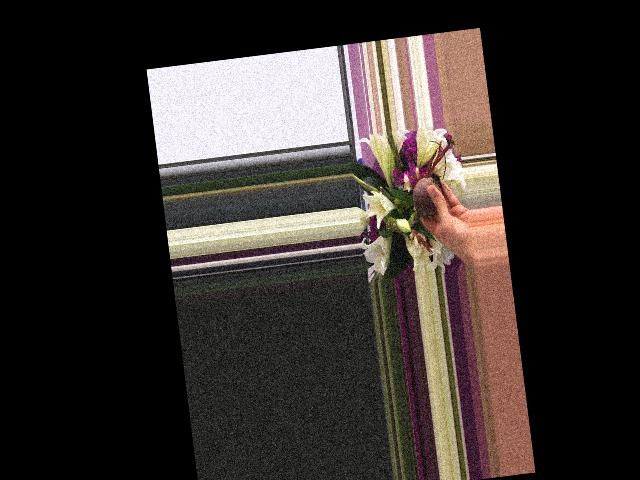beet: (403, 172, 446, 229)
